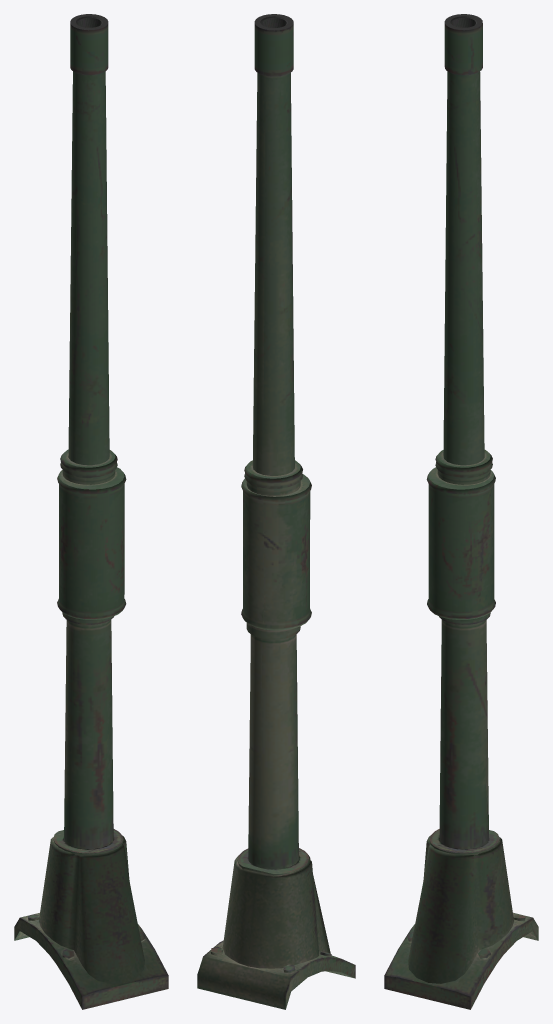
The model's file is Gun_02.glb.
The picture shows the model from 3 angles, left to right: view 1: azimuth 30°, elevation 25°; view 2: azimuth 150°, elevation 25°; view 3: azimuth 330°, elevation 25°; orthographic projection. The views are drawn at different scales.
Parts seen in each view (by area): view 1: set_0_group_0; view 2: set_0_group_0; view 3: set_0_group_0.
Part boxes in pixels (box(x1,y1,x2,y2)): set_0_group_0: box(14, 14, 168, 1009); set_0_group_0: box(197, 14, 355, 1009); set_0_group_0: box(384, 14, 538, 1009).
Size of the model in its own units: 0.4244 by 4.46 by 0.5799.
Materials: 1 (1 with a texture image).
